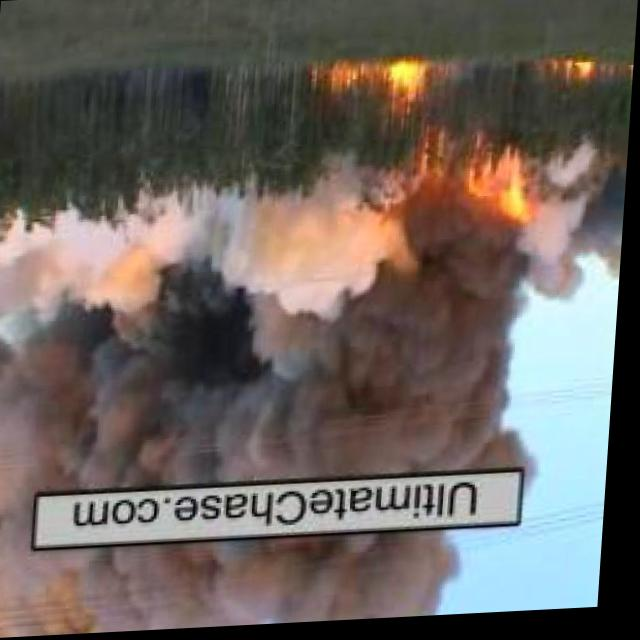Fire: (319, 59, 425, 129), (461, 152, 545, 232), (537, 65, 597, 97)
